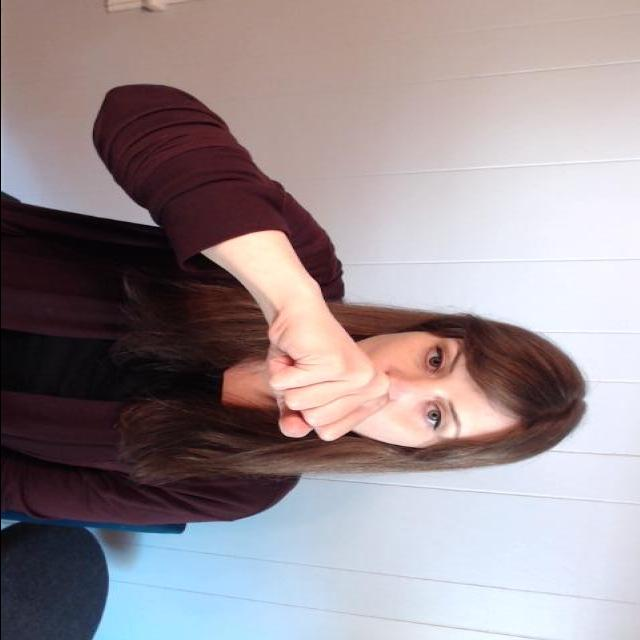Rock: (260, 300, 390, 453)
